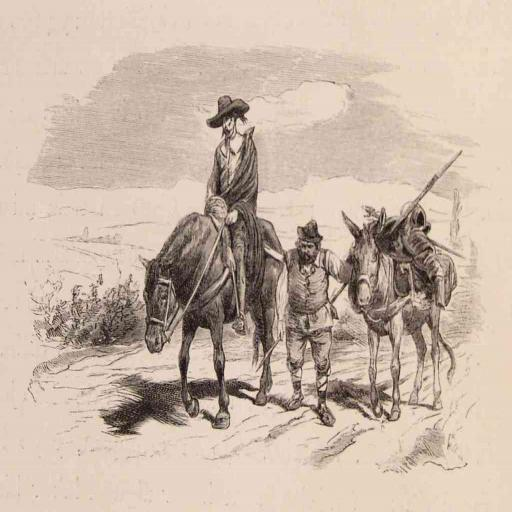Horse: (136, 214, 292, 428)
